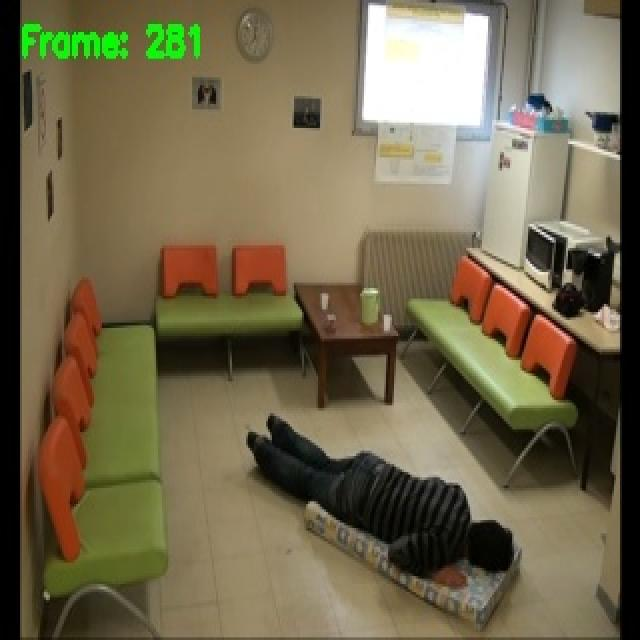Fall-Detected: (239, 411, 519, 603)
